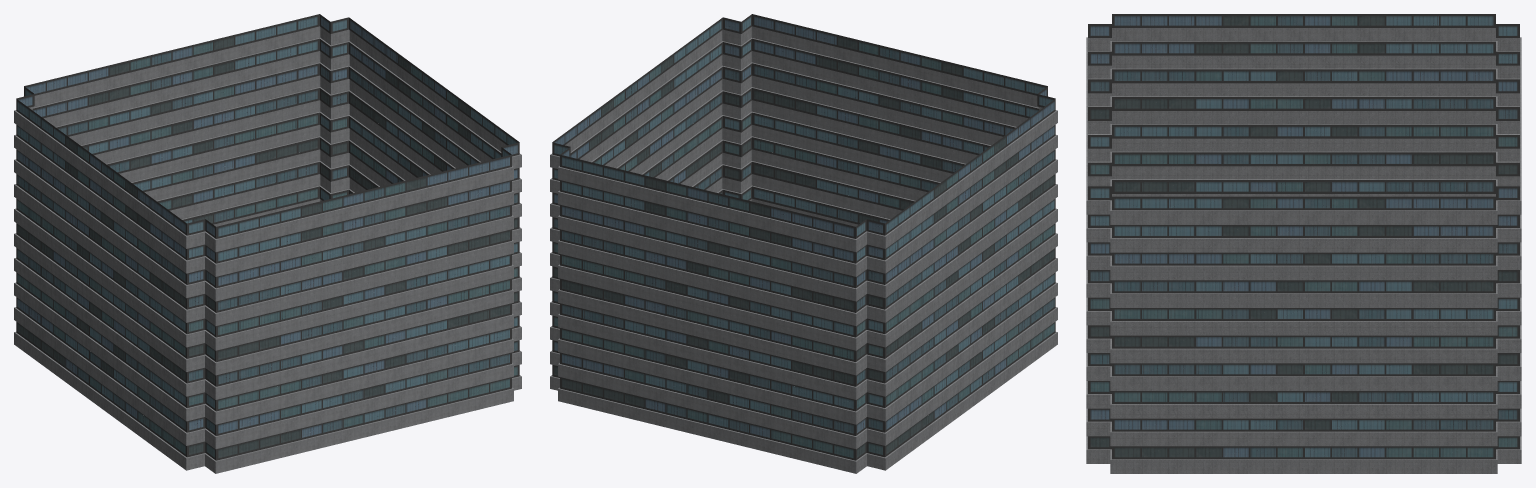
File: jctBld50A_mdl_low.fbx
3 renders of one model, left to right at view 1: azimuth 30°, elevation 25°; view 2: azimuth 150°, elevation 25°; view 3: azimuth 270°, elevation 25°, orthographic. The views are drawn at different scales.
Visible parts, largest first — view 1: jctBld50A_mdl_low; view 2: jctBld50A_mdl_low; view 3: jctBld50A_mdl_low.
Part boxes in pixels (x1,y1,x2,y2): jctBld50A_mdl_low: (14,14,521,473); jctBld50A_mdl_low: (550,14,1057,473); jctBld50A_mdl_low: (1086,14,1521,473).
Bounding box in the file's own units: 4990 × 3500 × 4990.
